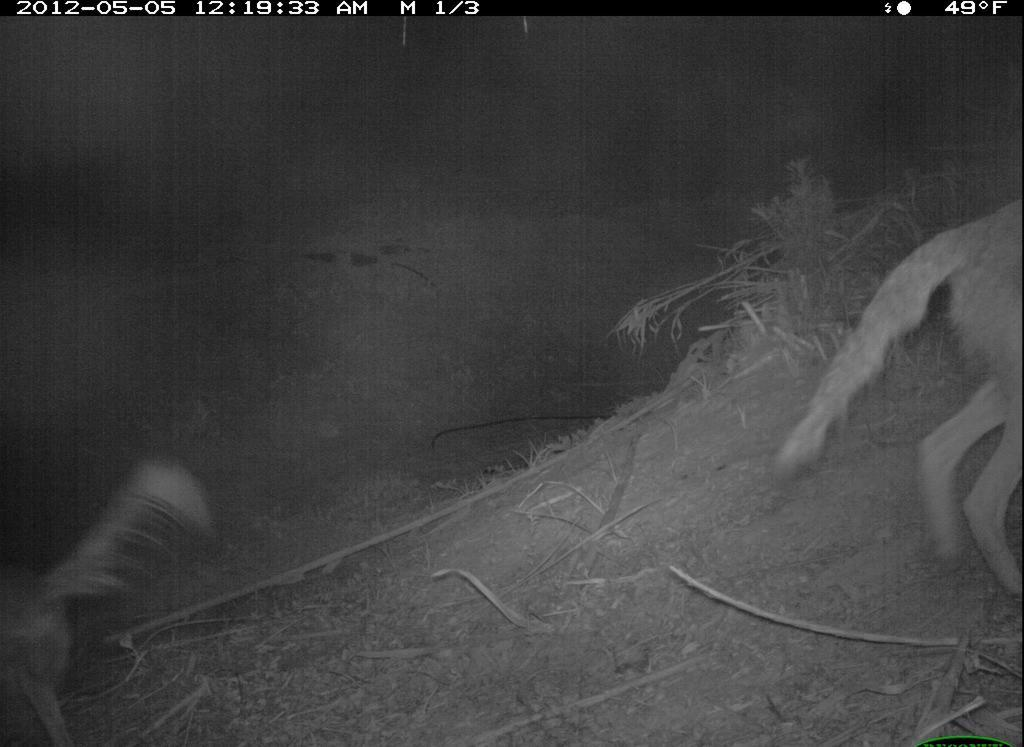coyote: (761, 176, 1023, 601)
